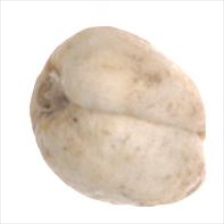L4: (29, 26, 208, 207)
